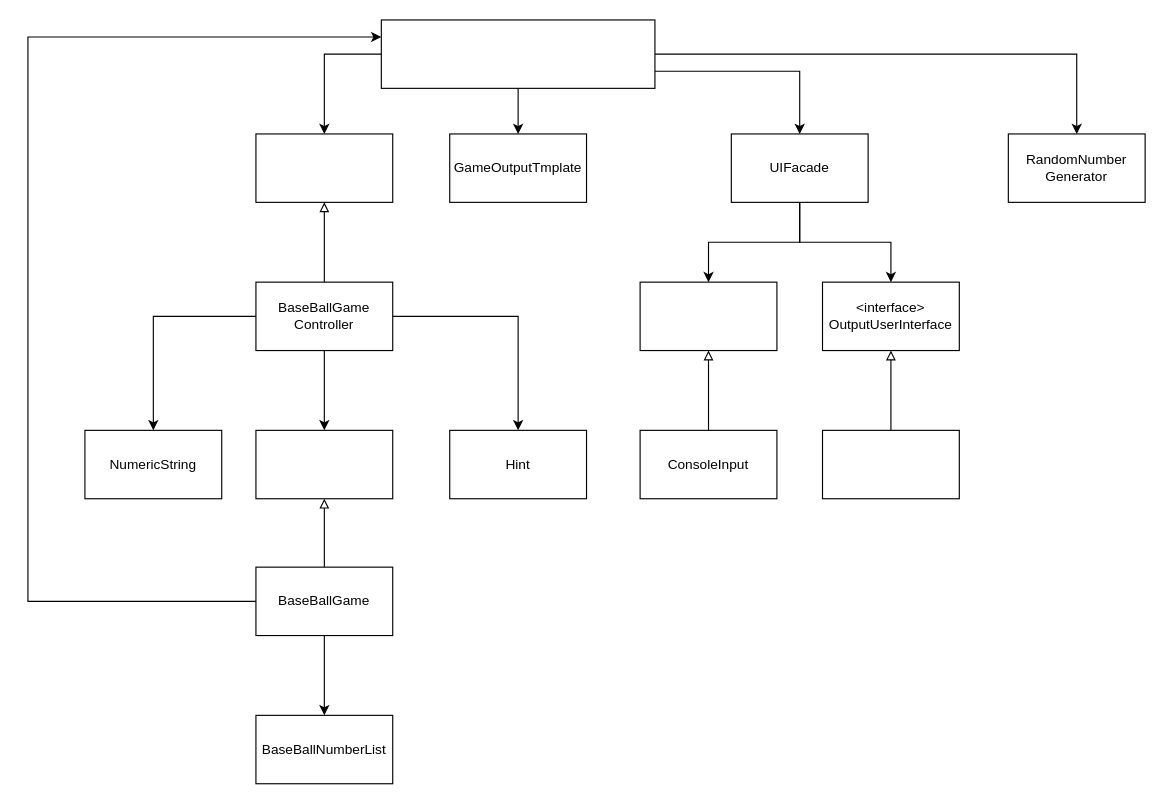
Some shapes in this 1165 by 804 pixel diagram are drawn without their labels. Here are the shapes that lost their labels. From the top down, the centre of each, then its label:
[517,53]: GameManager
[324,167]: <interface> Game
[708,316]: <interface> InputUserInterface
[324,464]: <interface> GameUserCase
[890,464]: ConsoleOutput
